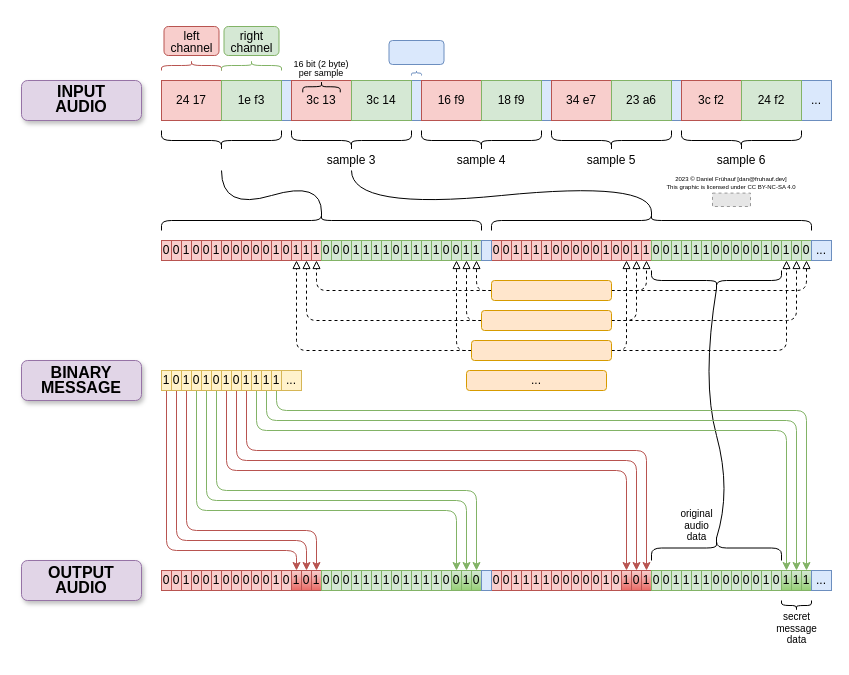
Some shapes in this 849 by 675 pixel diagram are drawn without their labels. Grey dashed boxes stand in for pictures. The centre of each missing label's shape, as x and y in pixels:
first LSBs: point (551, 290)
sample 2: point (221, 140)
sample separator (graphics only): point (416, 52)
second LSBs: point (546, 320)
third LSBs: point (541, 350)
